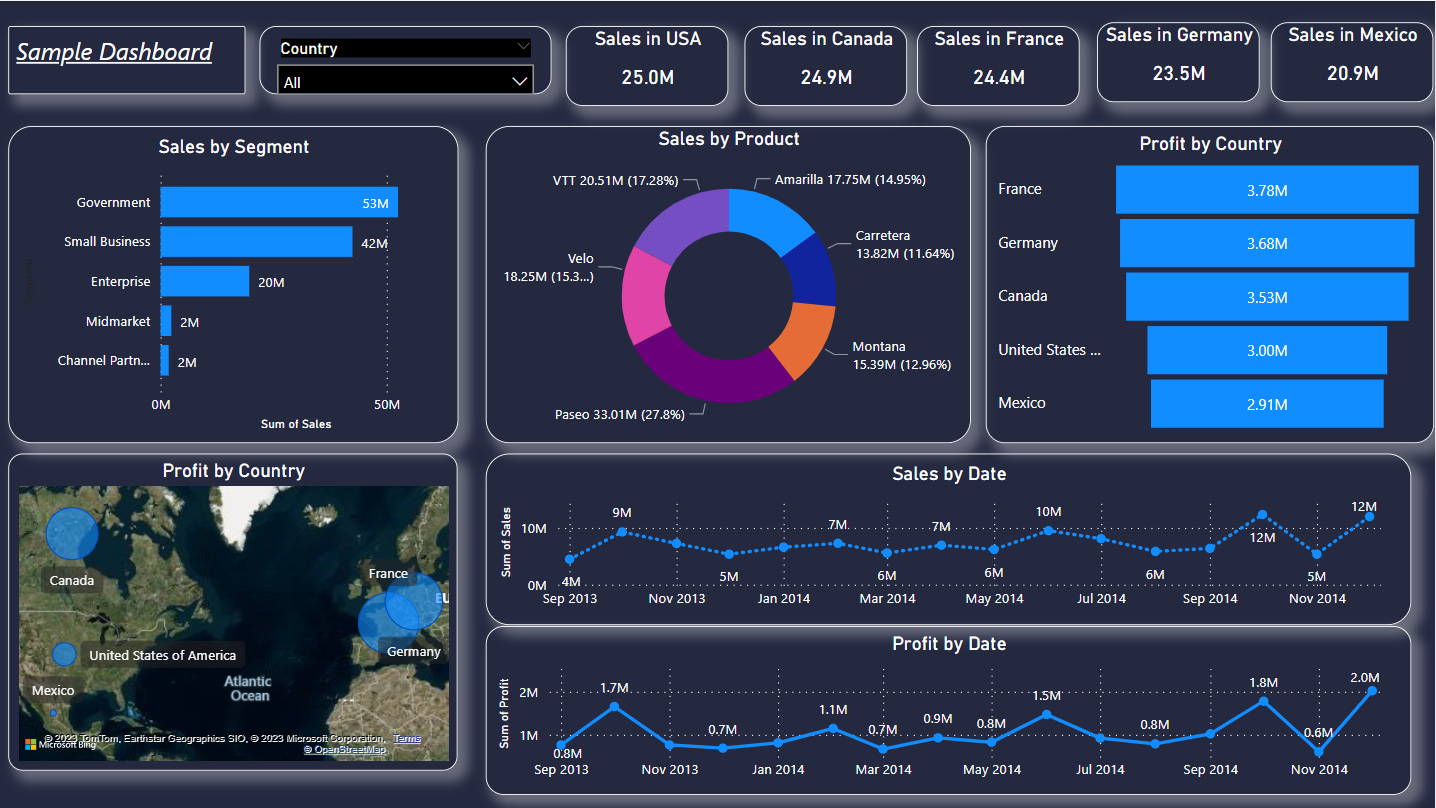

Layout of this report page (visuals, bound fields, positions):
{"tool":"powerbi","page":{"name":"Page 1","canvas":[1280,720],"ordinal":0},"visuals":[{"type":"textbox","box":[10,22,211,61],"z":0},{"type":"barChart","title":"Sales by Segment","fields":{"Category":["Sheet1.Segment"],"Y":["Sum(Sheet1. Sales)"]},"box":[9.6,111,400.4,282.2],"z":1000},{"type":"donutChart","title":"Sales by Product","fields":{"Y":["Sum(Sheet1. Sales)"],"Series":["Sheet1.Product"]},"box":[435.4,111,431.8,282.2],"z":2000},{"type":"funnel","title":"Profit by Country","fields":{"Y":["Sum(Sheet1.Profit)"],"Category":["Sheet1.Country"]},"box":[880.4,111,399.2,282.2],"z":3000},{"type":"map","title":"Profit by Country","fields":{"Category":["Sheet1.Country"],"Size":["Sum(Sheet1.Profit)"]},"box":[10,403,400,282],"z":4000},{"type":"lineChart","title":"Sales by Date","fields":{"Y":["Sum(Sheet1. Sales)"],"Category":["Sheet1.Date"]},"box":[435,403,824,153],"z":5000},{"type":"lineChart","title":"Profit by Date","fields":{"Category":["Sheet1.Date"],"Y":["Sum(Sheet1.Profit)"]},"box":[435,556,824,150],"z":6000},{"type":"card","title":"Sales in Mexico","fields":{"Values":["Sum(Sheet1. Sales)"]},"box":[1134,19,145,71],"z":7000},{"type":"card","title":"Sales in USA","fields":{"Values":["Sum(Sheet1. Sales)"]},"box":[506,22,145,71],"z":8000},{"type":"card","title":"Sales in Germany","fields":{"Values":["Sum(Sheet1. Sales)"]},"box":[979,19,145,71],"z":9000},{"type":"card","title":"Sales in France","fields":{"Values":["Sum(Sheet1. Sales)"]},"box":[819,22,145,71],"z":10000},{"type":"card","title":"Sales in Canada","fields":{"Values":["Sum(Sheet1. Sales)"]},"box":[665,22,145,71],"z":11000},{"type":"slicer","title":"Country","fields":{"Values":["Sheet1.Country"]},"box":[234,22,260,61],"z":12000}]}

Visuals, with their boxes in screenshot pixels (x1, y1, x2, y2), scaled from the page's 1280x720 canvas onto the 1436x808 screenshot:
textbox: <region>11, 25, 248, 93</region>
"Sales by Segment" barChart: <region>11, 125, 460, 441</region>
"Sales by Product" donutChart: <region>488, 125, 973, 441</region>
"Profit by Country" funnel: <region>988, 125, 1435, 441</region>
"Profit by Country" map: <region>11, 452, 460, 769</region>
"Sales by Date" lineChart: <region>488, 452, 1412, 624</region>
"Profit by Date" lineChart: <region>488, 624, 1412, 792</region>
"Sales in Mexico" card: <region>1272, 21, 1435, 101</region>
"Sales in USA" card: <region>568, 25, 730, 104</region>
"Sales in Germany" card: <region>1098, 21, 1261, 101</region>
"Sales in France" card: <region>919, 25, 1081, 104</region>
"Sales in Canada" card: <region>746, 25, 909, 104</region>
"Country" slicer: <region>263, 25, 554, 93</region>
